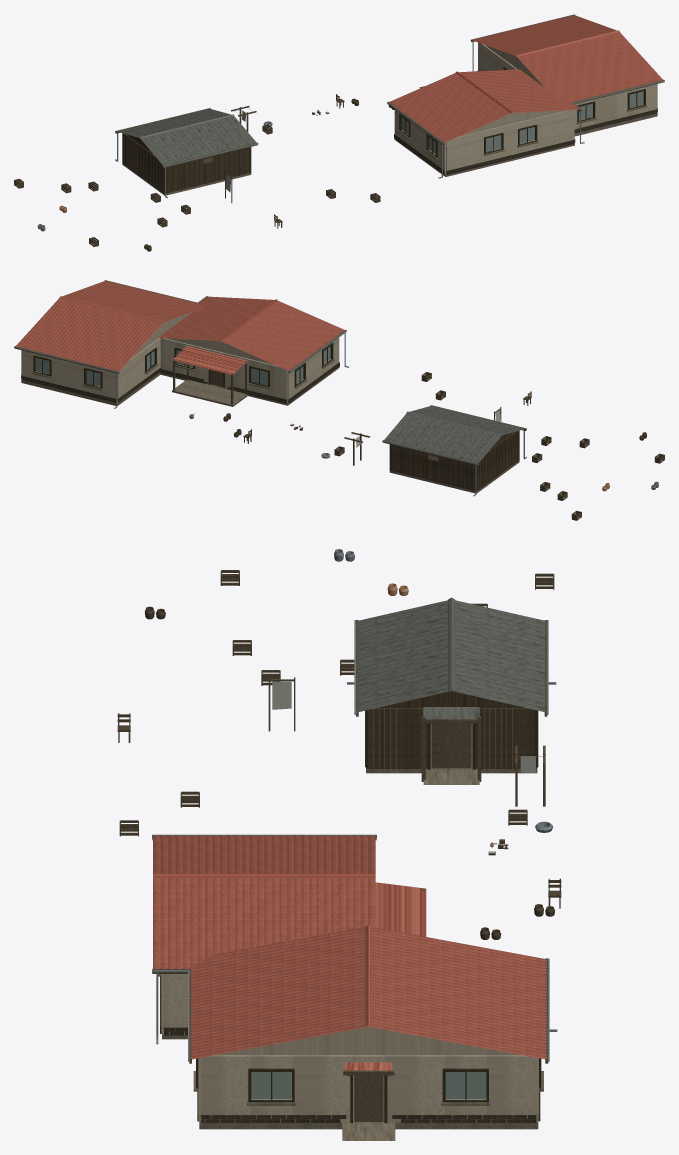
3 views of the same model, one above another, from view 1: azimuth 30°, elevation 25°; view 2: azimuth 150°, elevation 25°; view 3: azimuth 270°, elevation 25° (orthographic). The views are drawn at different scales.
Visible parts, largest first — view 1: H10_TELHAS, H10_ALA_L_TELHAS, H10_OFICINA_CHAPAS_ONDULADAS, H10_ALA_L_FUNDOS, H10_OFICINA_MATA_JUNTAS, H10_OFICINA_LATERAIS, H10_LATERAIS, H10_OFICINA_FUNDOS, H10_ALA_L_LATERAIS, H10_ALA_L_EMBASAMENTO_PEDRA, H10_ALA_L_OITOES, H10_FUNDOS (+8 smaller); view 2: H10_TELHAS, H10_ALA_L_TELHAS, H10_OFICINA_CHAPAS_ONDULADAS, H10_ALA_L_FACHADA, H10_OFICINA_LATERAIS, H10_OFICINA_MATA_JUNTAS, H10_LATERAIS, H10_OFICINA_FUNDOS, H10_VARANDA_SERVICO_TELHADO, H10_FUNDOS, H10_VARANDA_SERVICO_PISO, H10_ALA_L_LATERAIS (+12 smaller); view 3: H10_TELHAS, H10_ALA_L_TELHAS, H10_OFICINA_CHAPAS_ONDULADAS, H10_FACHADA, H10_OFICINA_FACHADA, H10_OITOES, H10_VARANDA_SERVICO_TELHADO, H10_EMBASAMENTO_PEDRA, H10_FUNDACAO, H10_VIDROS_RECUADOS, H10_OFICINA_MATA_JUNTAS, H10_OFICINA_PORTA_FOLHA (+7 smaller).
Part boxes in pixels (bbox=[...]): H10_TELHAS: bbox=[472, 15, 662, 102]; H10_ALA_L_TELHAS: bbox=[389, 69, 579, 142]; H10_OFICINA_CHAPAS_ONDULADAS: bbox=[117, 108, 256, 165]; H10_ALA_L_FUNDOS: bbox=[446, 110, 574, 174]; H10_OFICINA_MATA_JUNTAS: bbox=[123, 134, 249, 193]; H10_OFICINA_LATERAIS: bbox=[166, 147, 250, 193]; H10_LATERAIS: bbox=[574, 84, 656, 129]; H10_OFICINA_FUNDOS: bbox=[122, 133, 164, 192]; H10_ALA_L_LATERAIS: bbox=[394, 109, 574, 174]; H10_ALA_L_EMBASAMENTO_PEDRA: bbox=[394, 134, 575, 174]; H10_ALA_L_OITOES: bbox=[459, 110, 566, 136]; H10_FUNDOS: bbox=[478, 42, 517, 71]; H10_TELHAS: bbox=[16, 281, 202, 371]; H10_ALA_L_TELHAS: bbox=[158, 296, 344, 370]; H10_OFICINA_CHAPAS_ONDULADAS: bbox=[384, 406, 524, 463]; H10_ALA_L_FACHADA: bbox=[160, 338, 287, 402]; H10_OFICINA_LATERAIS: bbox=[390, 444, 475, 490]; H10_OFICINA_MATA_JUNTAS: bbox=[391, 431, 518, 490]; H10_LATERAIS: bbox=[22, 350, 116, 398]; H10_OFICINA_FUNDOS: bbox=[477, 431, 519, 490]; H10_VARANDA_SERVICO_TELHADO: bbox=[172, 346, 247, 374]; H10_FUNDOS: bbox=[117, 338, 160, 402]; H10_VARANDA_SERVICO_PISO: bbox=[172, 379, 247, 406]; H10_ALA_L_LATERAIS: bbox=[287, 337, 339, 402]; H10_TELHAS: bbox=[190, 927, 546, 1059]; H10_ALA_L_TELHAS: bbox=[153, 835, 375, 968]; H10_OFICINA_CHAPAS_ONDULADAS: bbox=[357, 600, 545, 711]; H10_FACHADA: bbox=[201, 1055, 536, 1122]; H10_OFICINA_FACHADA: bbox=[368, 708, 535, 768]; H10_OITOES: bbox=[215, 1027, 521, 1055]; H10_VARANDA_SERVICO_TELHADO: bbox=[375, 882, 426, 936]; H10_EMBASAMENTO_PEDRA: bbox=[197, 1091, 540, 1122]; H10_FUNDACAO: bbox=[199, 1072, 538, 1129]; H10_VIDROS_RECUADOS: bbox=[251, 1072, 485, 1099]; H10_OFICINA_MATA_JUNTAS: bbox=[365, 709, 538, 769]; H10_OFICINA_PORTA_FOLHA: bbox=[431, 723, 471, 768].
Bounding box in the file's own units: 49.18 × 4.28 × 15.89.
Materials: 14 (11 with a texture image).
